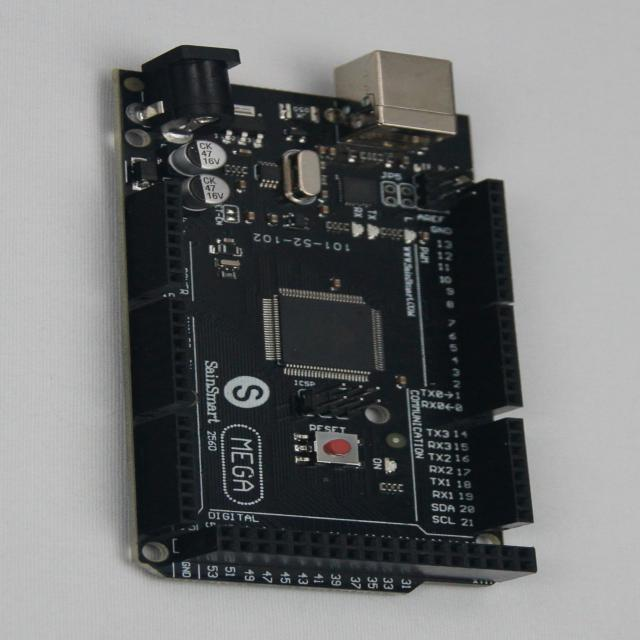Arduino Mega 2560 -Black-: (117, 46, 535, 593)
